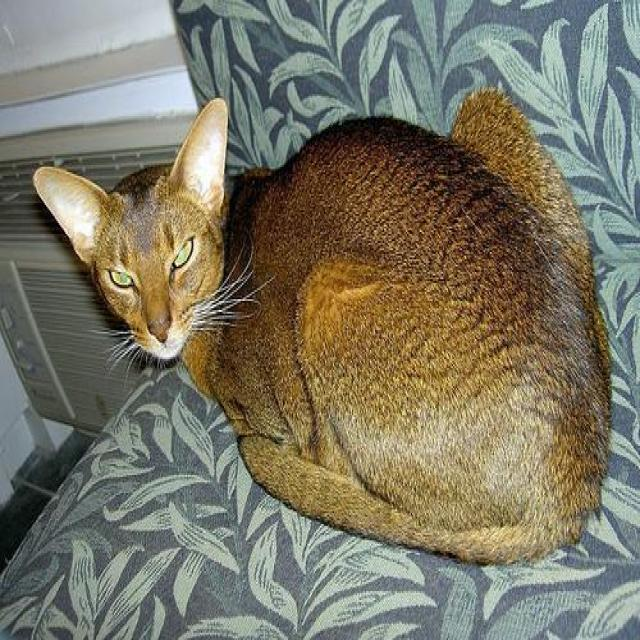cat: (33, 87, 608, 566)
